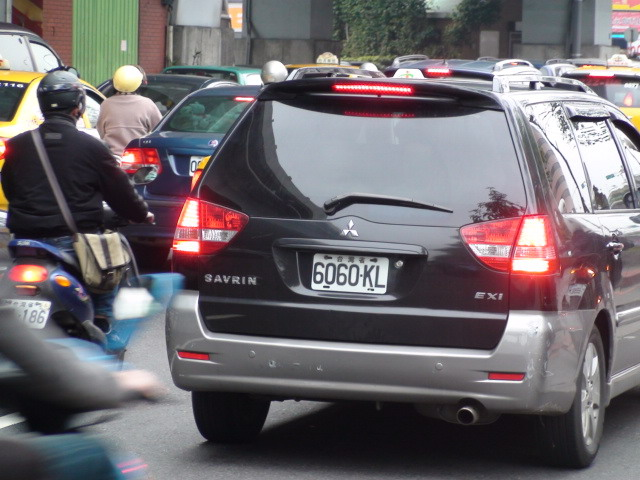plate: (309, 250, 389, 296), (3, 296, 58, 333)
